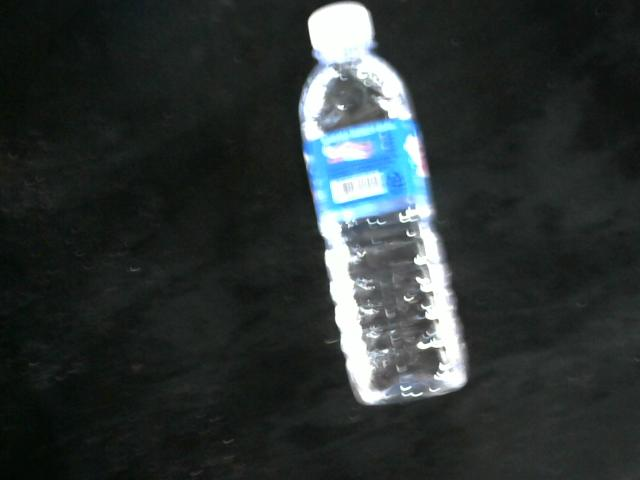bottle: (295, 0, 474, 408)
